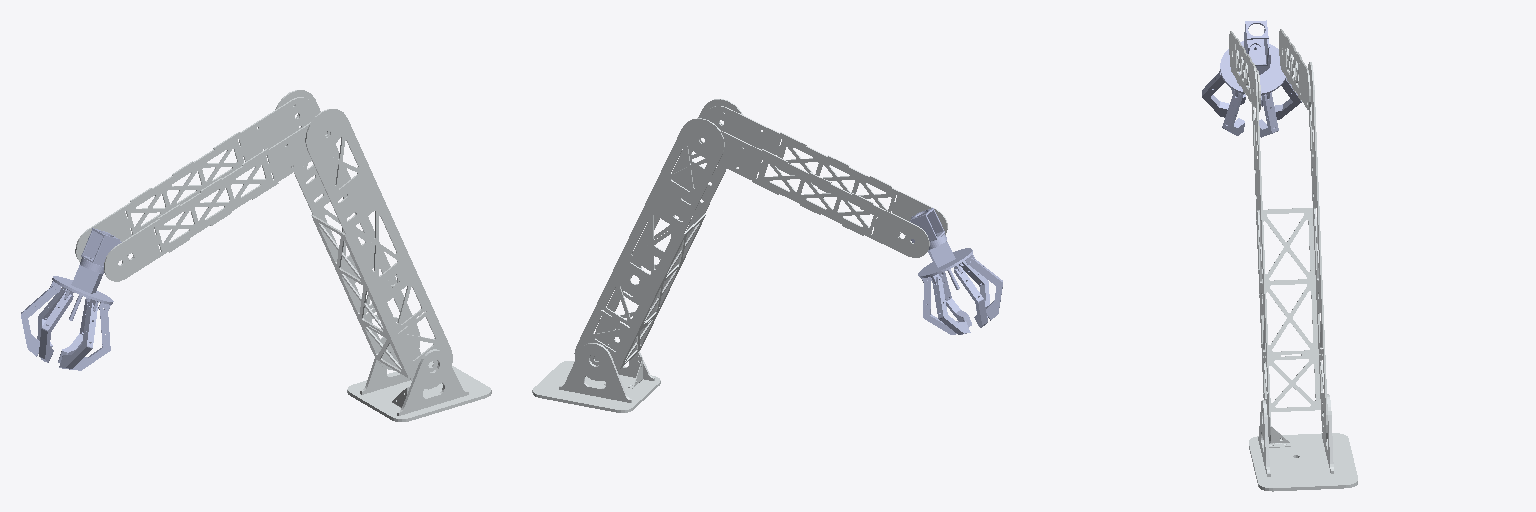
robot.urdf — rover_arm_controller:
<robot
  name="rover_arm_controller">
  <link
    name="base_link">
    <inertial>
      <origin
        xyz="0.16733 0.20357 0.093298"
        rpy="0 0 0" />
      <mass
        value="1.0999" />
      <inertia
        ixx="0.0018669"
        ixy="0.00021943"
        ixz="2.3876E-05"
        iyy="0.0015878"
        iyz="-7.2548E-05"
        izz="0.00070269" />
    </inertial>
    <visual>
      <origin
        xyz="0 0 0"
        rpy="0 0 0" />
      <geometry>
        <mesh
          filename="package://rover_arm_controller/meshes/base_link.STL" />
      </geometry>
      <material
        name="">
        <color
          rgba="0.89804 0.91765 0.92941 1" />
      </material>
    </visual>
    <collision>
      <origin
        xyz="0 0 0"
        rpy="0 0 0" />
      <geometry>
        <mesh
          filename="package://rover_arm_controller/meshes/base_link.STL" />
      </geometry>
    </collision>
  </link>
  <link
    name="shoulder">
    <inertial>
      <origin
        xyz="0.28724 -0.058799 -0.050607"
        rpy="0 0 0" />
      <mass
        value="1.0556" />
      <inertia
        ixx="0.0028346"
        ixy="-0.00078097"
        ixz="4.5564E-05"
        iyy="0.0041761"
        iyz="-1.7843E-06"
        izz="0.0020593" />
    </inertial>
    <visual>
      <origin
        xyz="0 0 0"
        rpy="0 0 0" />
      <geometry>
        <mesh
          filename="package://rover_arm_controller/meshes/shoulder.STL" />
      </geometry>
      <material
        name="">
        <color
          rgba="0.89804 0.91765 0.92941 1" />
      </material>
    </visual>
    <collision>
      <origin
        xyz="0 0 0"
        rpy="0 0 0" />
      <geometry>
        <mesh
          filename="package://rover_arm_controller/meshes/shoulder.STL" />
      </geometry>
    </collision>
  </link>
  <joint
    name="shoulder_joint"
    type="revolute">
    <origin
      xyz="0.19788 -0.046984 0.2944"
      rpy="1.5708 -1.1552 -3.0413" />
    <parent
      link="base_link" />
    <child
      link="shoulder" />
    <axis
      xyz="0 0 -1" />
    <limit
      lower="0"
      upper="1.5"
      effort="0"
      velocity="0" />
  </joint>
  <link
    name="elbow">
    <inertial>
      <origin
        xyz="0.24497 -0.04445 4.8233E-08"
        rpy="0 0 0" />
      <mass
        value="0.6369" />
      <inertia
        ixx="0.0013525"
        ixy="1.4037E-17"
        ixz="-2.5835E-20"
        iyy="2.3459E-21"
        iyz="-5.8597E-18"
        izz="0.0013525" />
    </inertial>
    <visual>
      <origin
        xyz="0 0 0"
        rpy="0 0 0" />
      <geometry>
        <mesh
          filename="package://rover_arm_controller/meshes/elbow.STL" />
      </geometry>
      <material
        name="">
        <color
          rgba="0.89804 0.91765 0.92941 1" />
      </material>
    </visual>
    <collision>
      <origin
        xyz="0 0 0"
        rpy="0 0 0" />
      <geometry>
        <mesh
          filename="package://rover_arm_controller/meshes/elbow.STL" />
      </geometry>
    </collision>
  </link>
  <joint
    name="elbow_joint"
    type="revolute">
    <origin
      xyz="0.6 -0.0508 -0.00635"
      rpy="1.5708 2.609E-15 -1.4433" />
    <parent
      link="shoulder" />
    <child
      link="elbow" />
    <axis
      xyz="0 -1 0" />
    <limit
      lower="0"
      upper="1.5"
      effort="0"
      velocity="0" />
  </joint>
  <link
    name="gripper">
    <inertial>
      <origin
        xyz="-0.044451 -0.13778 -0.019631"
        rpy="0 0 0" />
      <mass
        value="0.74012" />
      <inertia
        ixx="0.0032141"
        ixy="6.6666E-08"
        ixz="4.2196E-09"
        iyy="0.0019776"
        iyz="-3.9108E-05"
        izz="0.0032116" />
    </inertial>
    <visual>
      <origin
        xyz="0 0 0"
        rpy="0 0 0" />
      <geometry>
        <mesh
          filename="package://rover_arm_controller/meshes/gripper.STL" />
      </geometry>
      <material
        name="">
        <color
          rgba="0.79216 0.81961 0.93333 1" />
      </material>
    </visual>
    <collision>
      <origin
        xyz="0 0 0"
        rpy="0 0 0" />
      <geometry>
        <mesh
          filename="package://rover_arm_controller/meshes/gripper.STL" />
      </geometry>
    </collision>
  </link>
  <joint
    name="gripper_joint"
    type="revolute">
    <origin
      xyz="0.5 0 0"
      rpy="-0.79673 -1.1068E-15 1.5708" />
    <parent
      link="elbow" />
    <child
      link="gripper" />
    <axis
      xyz="-1 0 0" />
    <limit
      lower="0"
      upper="1.5"
      effort="0"
      velocity="0" />
  </joint>
</robot>

--- Facts derived from the render (not from the file) ---
3 views of the same robot in one strip: view 1: azimuth 30°, elevation 25°; view 2: azimuth 150°, elevation 25°; view 3: azimuth 270°, elevation 25° (orthographic).
Model rover_arm_controller with 4 links and 3 joints (3 revolute), rooted at base_link, posed every joint at zero.
Links seen in each view (by area): view 1: shoulder, elbow, gripper, base_link; view 2: shoulder, elbow, gripper, base_link; view 3: shoulder, base_link, gripper, elbow.
Link boxes in pixels (x1,y1,x2,y2): shoulder: [275, 90, 452, 389]; elbow: [75, 97, 338, 281]; gripper: [21, 228, 121, 370]; base_link: [347, 349, 491, 421]; shoulder: [574, 99, 742, 380]; elbow: [690, 106, 947, 257]; gripper: [910, 208, 1002, 334]; base_link: [532, 328, 660, 412]; shoulder: [1251, 62, 1327, 443]; base_link: [1249, 394, 1357, 491]; gripper: [1202, 20, 1301, 137]; elbow: [1229, 29, 1310, 111].
Size in the robot's own frame: 1.03 by 0.2885 by 0.6886 metres.
Meshes: 4 distinct files referenced, 4 mesh visuals loaded (4 binary STL).